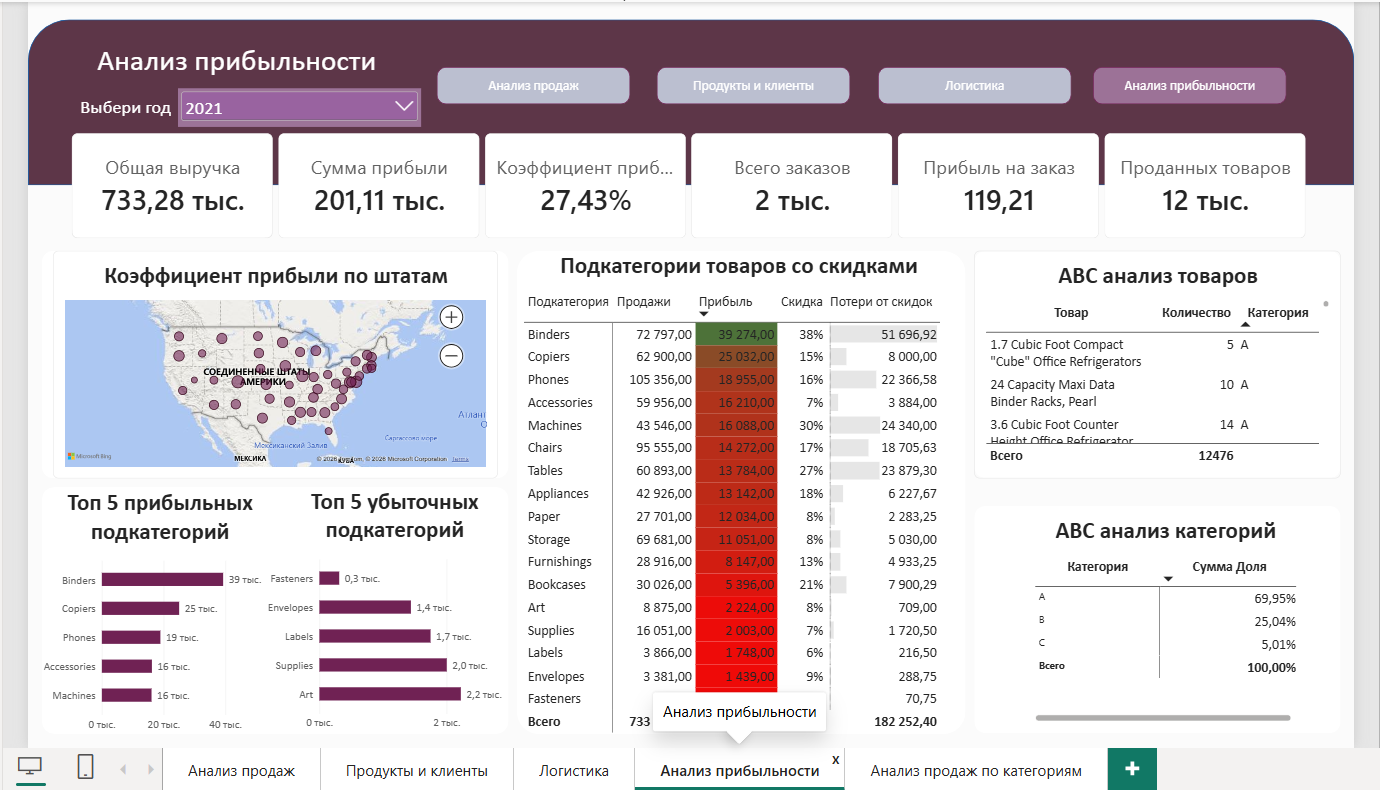

The dashboard page shown, as its layout file describes it:
{"tool":"powerbi","page":{"name":"Анализ прибыльности","canvas":[1920,1080],"ordinal":3},"visuals":[{"type":"shape","box":[1370.4,729.9,530.7,329.6],"z":0},{"type":"shape","box":[1370.4,359.4,530.7,329.6],"z":1000},{"type":"shape","box":[707.5,359.4,649.8,700.1],"z":2000},{"type":"shape","box":[20.5,701.9,675.9,357.5],"z":3000},{"type":"shape","box":[20.5,359.4,675.9,329.6],"z":4000},{"type":"shape","box":[0,26,1920,240],"z":5000},{"type":"textbox","box":[64,58,478,66],"z":6000},{"type":"textbox","box":[66,134.9,152.6,55.1],"z":7000},{"type":"cardVisual","fields":{"Data":["Меры.Сумма продаж","Меры.Сумма прибыли","Меры.Коэффициент прибыли","Меры.Всего заказов","Меры.Прибыль на заказ","Меры.Проданных товаров"]},"box":[64,190,1790,152],"z":8000},{"type":"shape","title":"Анализ продаж","box":[592,94,280,54],"z":9000},{"type":"shape","title":"Анализ продаж","box":[1230,94,280,54],"z":10000},{"type":"shape","title":"Анализ продаж","box":[910,94,280,54],"z":11000},{"type":"shape","title":"Анализ продаж","box":[1542,94,280,54],"z":12000},{"type":"clusteredBarChart","title":"Топ 5 прибыльных подкатегорий","fields":{"Category":["Sample - Superstore_Orders.Sub-Category"],"Y":["Sum(Sample - Superstore_Orders.Profit)"]},"box":[20.5,703.8,342.6,355.6],"z":13000},{"type":"clusteredBarChart","title":"Топ 5 убыточных подкатегорий","fields":{"Category":["Sample - Superstore_Orders.Sub-Category"],"Y":["Sum(Sample - Superstore_Orders.Profit)"]},"box":[344.5,701.9,374.2,355.6],"z":14000},{"type":"pivotTable","title":"Подкатегории товаров со скидками","fields":{"Rows":["Sample - Superstore_Orders.Sub-Category"],"Values":["Sum(Sample - Superstore_Orders.Sales)","Sum(Sample - Superstore_Orders.Profit)","Avg(Sample - Superstore_Orders.Discount)","Меры.Потери от скидок"]},"box":[718.7,359.4,621.9,698.2],"z":15000},{"type":"slicer","fields":{"Values":["Sample - Superstore_Orders.Year"]},"box":[218,124,352,56],"z":16000},{"type":"map","title":"Коэффициент прибыли по штатам","fields":{"Category":["Sample - Superstore_Orders.State"],"Size":["Меры.Коэффициент прибыли"]},"box":[35.4,359.4,644.2,329.6],"z":17000},{"type":"tableEx","title":"АВС анализ товаров","fields":{"Values":["Sample - Superstore_Orders.Product Name","Sum(Sample - Superstore_Orders.Quantity)","ABC.Категория"]},"box":[1370.4,359.4,530.7,329.6],"z":18000},{"type":"pivotTable","title":"АВС анализ категорий","fields":{"Rows":["ABC.Категория"],"Values":["Sum(ABC.Доля)"]},"box":[1443,729.9,409.6,327.7],"z":19000}]}

Visuals, with their boxes on the page's 1920x1080 design canvas (x1, y1, x2, y2). These are canvas units, not pixel positions in the 1380x790 screenshot, which may show the page scaled, cropped or inside an application window:
shape: [1370, 730, 1901, 1060]
shape: [1370, 359, 1901, 689]
shape: [708, 359, 1357, 1060]
shape: [20, 702, 696, 1059]
shape: [20, 359, 696, 689]
shape: [0, 26, 1920, 266]
textbox: [64, 58, 542, 124]
textbox: [66, 135, 219, 190]
cardVisual - Меры.Сумма продаж x Меры.Сумма прибыли: [64, 190, 1854, 342]
"Анализ продаж" shape: [592, 94, 872, 148]
"Анализ продаж" shape: [1230, 94, 1510, 148]
"Анализ продаж" shape: [910, 94, 1190, 148]
"Анализ продаж" shape: [1542, 94, 1822, 148]
"Топ 5 прибыльных подкатегорий" clusteredBarChart: [20, 704, 363, 1059]
"Топ 5 убыточных подкатегорий" clusteredBarChart: [344, 702, 719, 1058]
"Подкатегории товаров со скидками" pivotTable: [719, 359, 1341, 1058]
slicer - Sample - Superstore_Orders.Year: [218, 124, 570, 180]
"Коэффициент прибыли по штатам" map: [35, 359, 680, 689]
"АВС анализ товаров" tableEx: [1370, 359, 1901, 689]
"АВС анализ категорий" pivotTable: [1443, 730, 1853, 1058]
